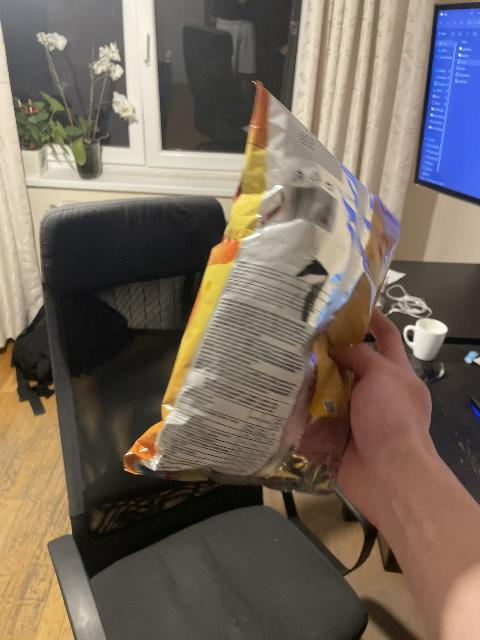Chio Cascaval 125g: (125, 84, 397, 495)
